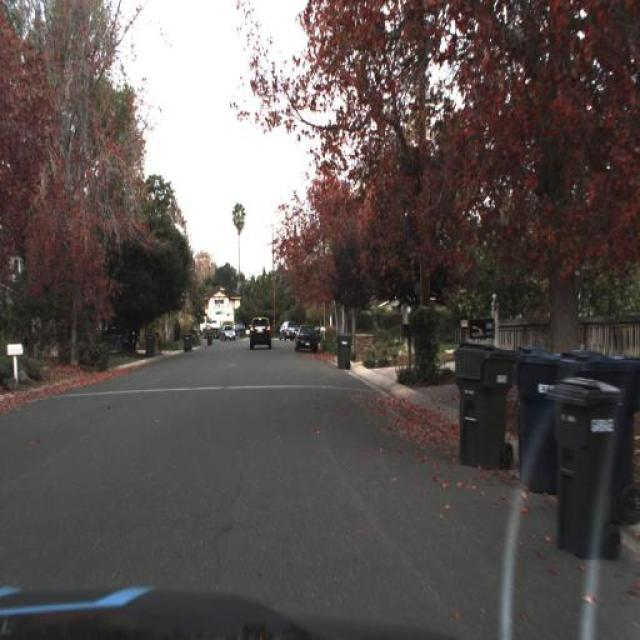car: (246, 313, 276, 352), (294, 322, 318, 357), (280, 320, 299, 338), (220, 324, 234, 341)
